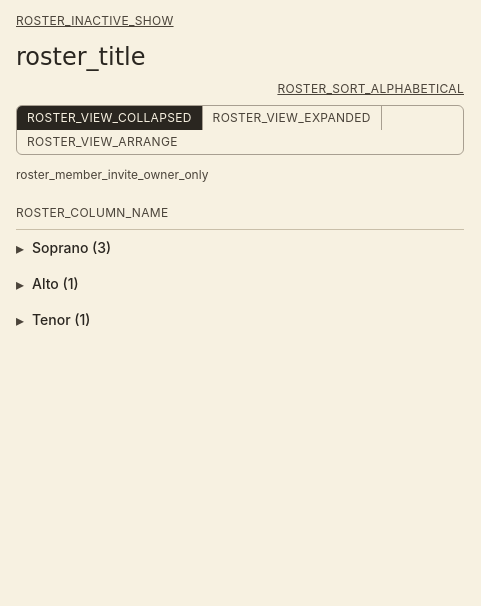
Test: /roster — reparent writes share the one-outstanding-write guard and the reconcile-on-failure contract (#155/S3) › a reparent that LANDS but whose sibling RENUMBER fails reconciles to the TRUTH — the section renders AT ITS NEW PARENT AND DEPTH (the move happened), and the ba
Click the button "roster_view_arrange" at (102, 142), box [17, 130, 188, 154]
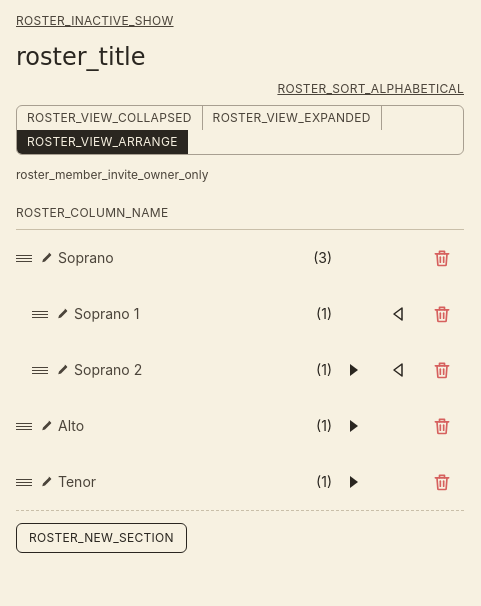
Click the button named "roster_section_indent {\"name\":\"Alto\"}" at (354, 426), box [332, 404, 376, 448]
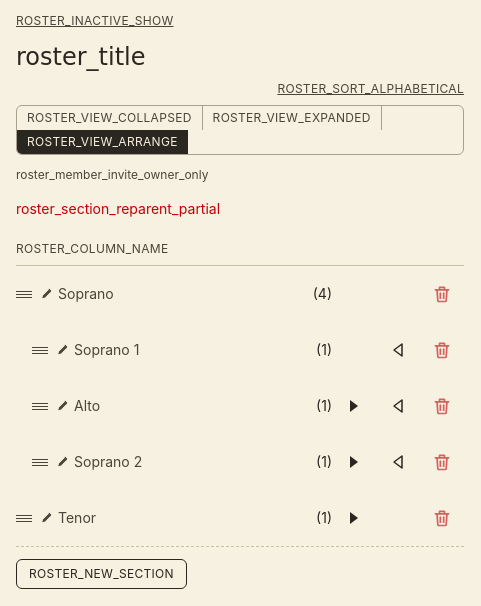
Now the message "roster_section_reparent_partial" is shown, box [16, 200, 220, 217]
